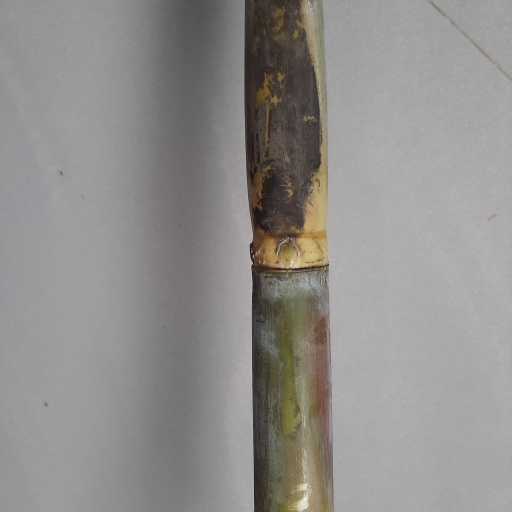Bud: (275, 239, 301, 270)
